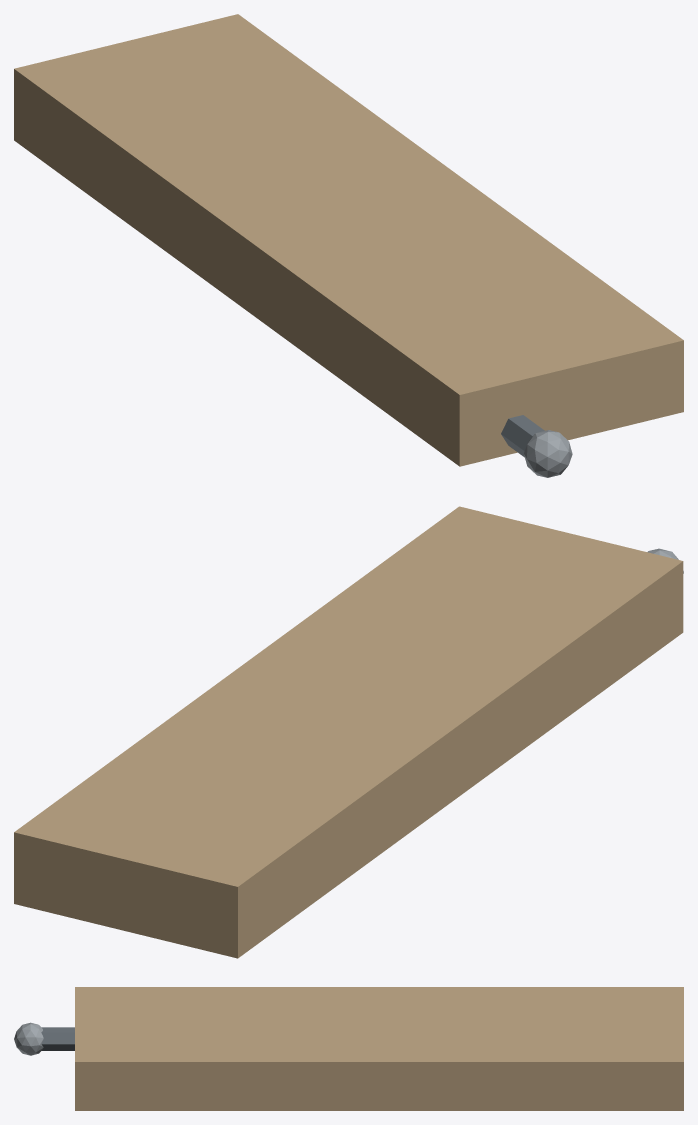
The model's file is nail_plank.glb.
3 views of the same model, one above another, from view 1: azimuth 30°, elevation 25°; view 2: azimuth 150°, elevation 25°; view 3: azimuth 270°, elevation 25° (orthographic). The views are drawn at different scales.
Visible parts, largest first — view 1: 00_plank, 06_nail_head, 05_nail; view 2: 00_plank; view 3: 00_plank, 06_nail_head, 05_nail.
Boxes of the visible parts, bbox=[...] form: 00_plank: bbox=[14, 14, 683, 466]; 06_nail_head: bbox=[524, 430, 572, 477]; 05_nail: bbox=[501, 415, 544, 457]; 00_plank: bbox=[14, 506, 683, 958]; 00_plank: bbox=[75, 987, 683, 1110]; 06_nail_head: bbox=[14, 1022, 43, 1055]; 05_nail: bbox=[41, 1027, 74, 1050].
Bounding box in the file's own units: 0.18 × 0.055 × 0.682.
